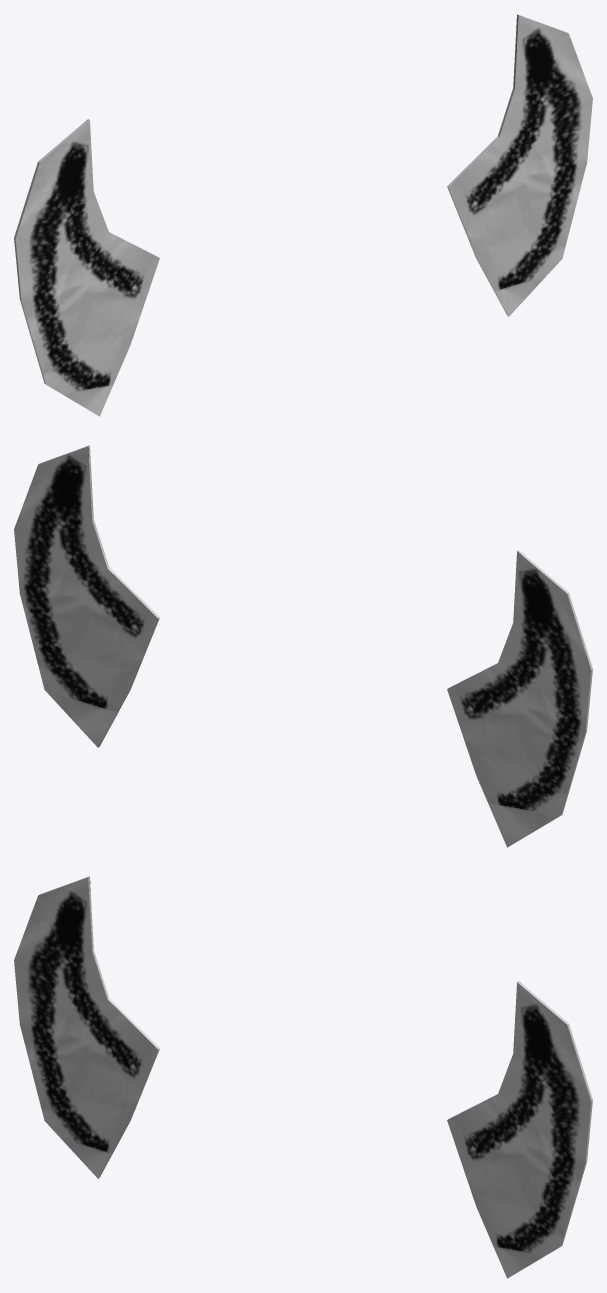
Rendered from 19-cute-paper-horns-12460135621.glb.
3 renders of one model, top to bottom at view 1: azimuth 30°, elevation 25°; view 2: azimuth 150°, elevation 25°; view 3: azimuth 330°, elevation 25°, orthographic.
Parts seen in each view (by area): view 1: 19-cute-paper-horns-12460135621; view 2: 19-cute-paper-horns-12460135621; view 3: 19-cute-paper-horns-12460135621.
Boxes of the visible parts, left/top/right/bottom form: 19-cute-paper-horns-12460135621: left=14, top=14, right=592, bottom=416; 19-cute-paper-horns-12460135621: left=14, top=445, right=592, bottom=847; 19-cute-paper-horns-12460135621: left=14, top=876, right=592, bottom=1278.
Size of the model in its own units: 1.59 by 0.7887 by 0.008.
Materials: 1 (1 with a texture image).
